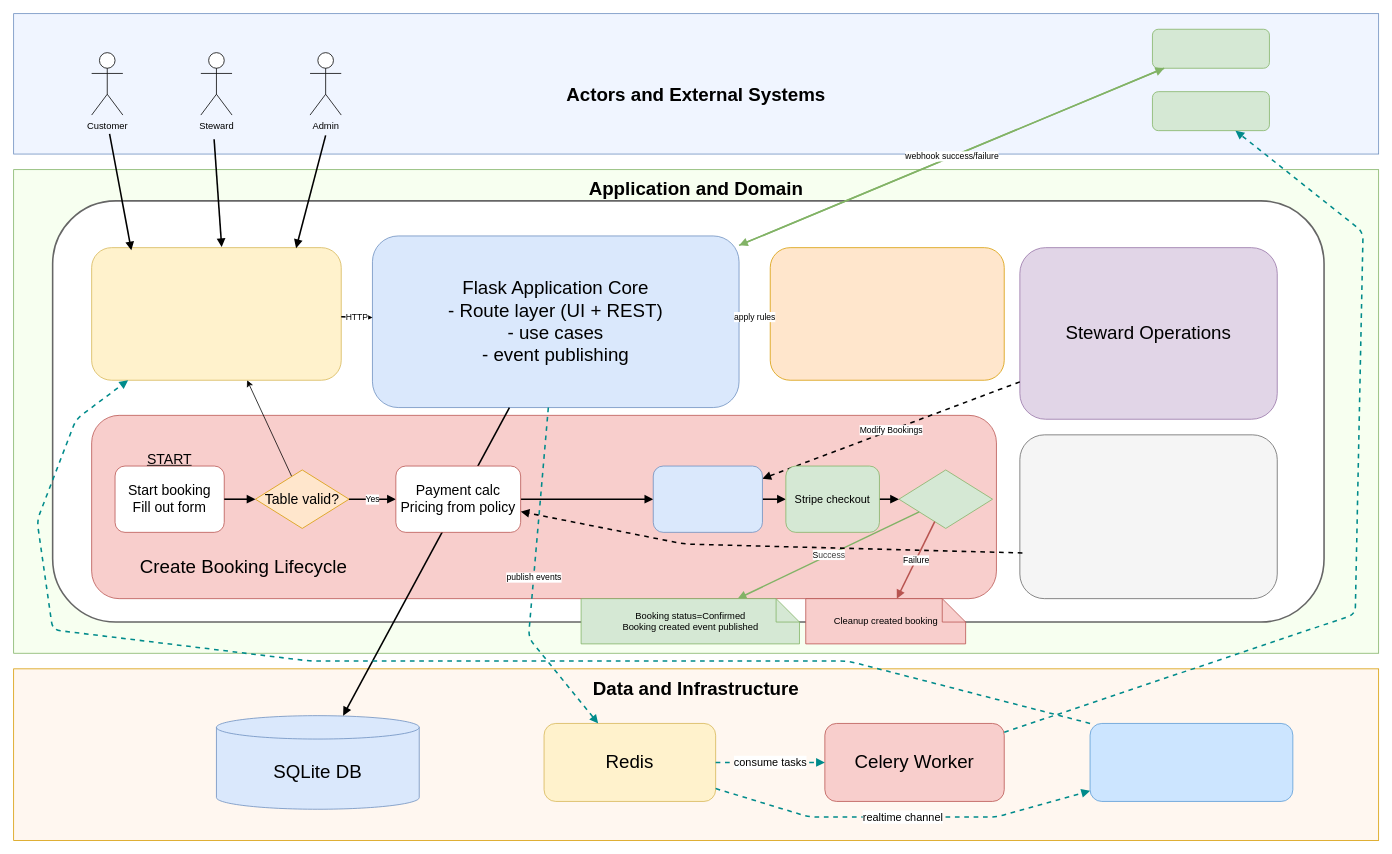
The diagram is 1392 pixels wide and 854 high, and some of its shapes have lost their labels. The shapes that lost their labels are listed below. From the top down, each one's centre as x and y in pixels, then its label:
[1210,48]: Stripe
[1210,111]: Email Provider
[216,313]: WEB UI
[886,313]: Domain Rules and Validation
[707,498]: Save booking status=created
[945,498]: Payment result
[1148,516]: Admin Operations
[1191,762]: Realtime Event Stream
